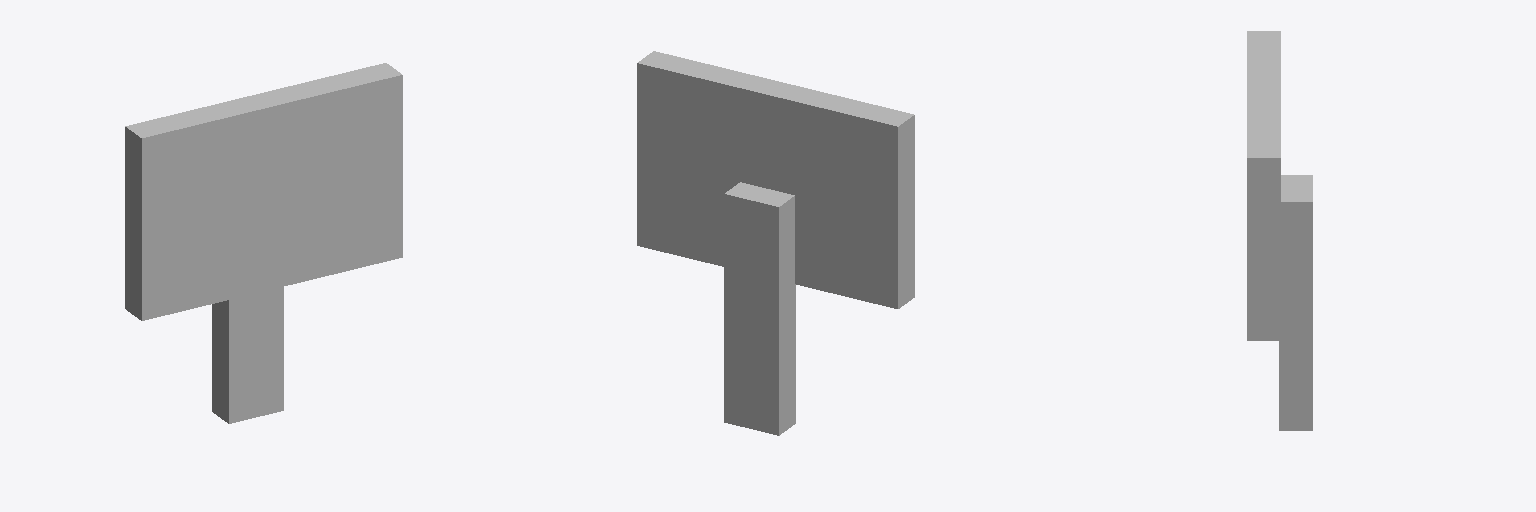
Rendered from sign1.obj.
3 renders of one model, left to right at view 1: azimuth 30°, elevation 25°; view 2: azimuth 150°, elevation 25°; view 3: azimuth 270°, elevation 25°, orthographic.
Parts seen in each view (by area): view 1: Cube.002; view 2: Cube.002; view 3: Cube.002.
Boxes of the visible parts, <box> form: Cube.002: <box>125,63,402,423</box>; Cube.002: <box>637,51,914,435</box>; Cube.002: <box>1247,31,1312,430</box>.
Size of the model in its own units: 1.92 by 2.26 by 0.4145.